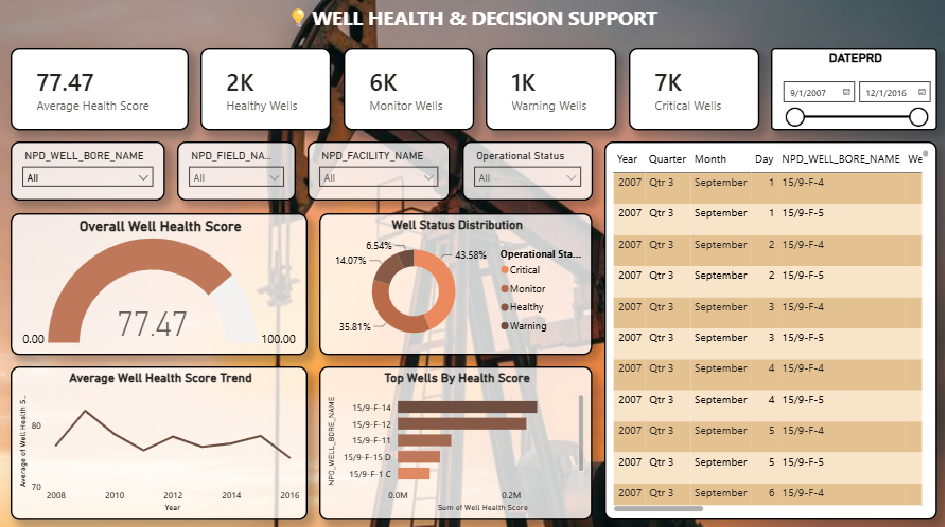

Layout of this report page (visuals, bound fields, positions):
{"tool":"powerbi","page":{"name":"Page 4","canvas":[1280,720],"ordinal":3},"visuals":[{"type":"cardVisual","fields":{"Data":["IntelliWell_Final_Report.Average Health Score"]},"box":[16,64,240,112],"z":0},{"type":"cardVisual","fields":{"Data":["IntelliWell_Final_Report.Monitor Wells"]},"box":[464,64,176,112],"z":1000},{"type":"cardVisual","fields":{"Data":["IntelliWell_Final_Report.Warning Wells"]},"box":[656,64,176,112],"z":2000},{"type":"cardVisual","fields":{"Data":["IntelliWell_Final_Report.Healthy Wells"]},"box":[272,64,176,112],"z":3000},{"type":"cardVisual","fields":{"Data":["IntelliWell_Final_Report.Critical Wells"]},"box":[848,64,176,112],"z":4000},{"type":"gauge","title":"Overall Well Health Score","fields":{"Y":["IntelliWell_Final_Report.Average Health Score"]},"box":[16,288,400,192],"z":5000},{"type":"donutChart","title":"Well Status Distribution","fields":{"Category":["IntelliWell_Final_Report.Operational Status"],"Y":["CountNonNull(IntelliWell_Final_Report.Operational Status)"]},"box":[432,288,368,192],"z":6000},{"type":"clusteredBarChart","title":"Top Wells By Health Score","fields":{"Category":["IntelliWell_Final_Report.NPD_WELL_BORE_NAME"],"Y":["Sum(IntelliWell_Final_Report.Well Health Score)"]},"box":[432,496,368,208],"z":7000},{"type":"lineChart","title":"Average  Well Health Score Trend","fields":{"Category":["IntelliWell_Final_Report.DATEPRD.Variation.Date Hierarchy.Year","IntelliWell_Final_Report.DATEPRD.Variation.Date Hierarchy.Quarter","IntelliWell_Final_Report.DATEPRD.Variation.Date Hierarchy.Month","IntelliWell_Final_Report.DATEPRD.Variation.Date Hierarchy.Day"],"Y":["Avg(IntelliWell_Final_Report.Well Health Score)"]},"box":[16,496,400,208],"z":9000},{"type":"tableEx","fields":{"Values":["IntelliWell_Final_Report.DATEPRD.Variation.Date Hierarchy.Year","IntelliWell_Final_Report.DATEPRD.Variation.Date Hierarchy.Quarter","IntelliWell_Final_Report.DATEPRD.Variation.Date Hierarchy.Month","IntelliWell_Final_Report.DATEPRD.Variation.Date Hierarchy.Day","IntelliWell_Final_Report.NPD_WELL_BORE_NAME","IntelliWell_Final_Report.Well Health Score","IntelliWell_Final_Report.Operational Status","IntelliWell_Final_Report.Recommendation","Sum(IntelliWell_Final_Report.Pressure Score)","Sum(IntelliWell_Final_Report.Predicted Production)"]},"box":[816,192,448,512],"z":10000},{"type":"slicer","title":"DATEPRD","fields":{"Values":["IntelliWell_Final_Report.DATEPRD"]},"box":[1040,64,224,112],"z":11000},{"type":"slicer","fields":{"Values":["IntelliWell_Final_Report.NPD_FACILITY_NAME"]},"box":[416,192,192,80],"z":12000},{"type":"slicer","fields":{"Values":["IntelliWell_Final_Report.Operational Status"]},"box":[624,192,176,80],"z":13000},{"type":"slicer","fields":{"Values":["IntelliWell_Final_Report.NPD_FIELD_NAME"]},"box":[240,192,160,80],"z":14000},{"type":"slicer","fields":{"Values":["IntelliWell_Final_Report.NPD_WELL_BORE_NAME"]},"box":[16,192,208,80],"z":15000},{"type":"textbox","box":[256,0,768,48],"z":16000}]}

Visuals, with their boxes in screenshot pixels (x1, y1, x2, y2), scaled from the page's 1280x720 canvas onto the 945x527 screenshot:
cardVisual - IntelliWell_Final_Report.Average Health Score: x1=12, y1=47, x2=189, y2=129
cardVisual - IntelliWell_Final_Report.Monitor Wells: x1=343, y1=47, x2=472, y2=129
cardVisual - IntelliWell_Final_Report.Warning Wells: x1=484, y1=47, x2=614, y2=129
cardVisual - IntelliWell_Final_Report.Healthy Wells: x1=201, y1=47, x2=331, y2=129
cardVisual - IntelliWell_Final_Report.Critical Wells: x1=626, y1=47, x2=756, y2=129
"Overall Well Health Score" gauge: x1=12, y1=211, x2=307, y2=351
"Well Status Distribution" donutChart: x1=319, y1=211, x2=591, y2=351
"Top Wells By Health Score" clusteredBarChart: x1=319, y1=363, x2=591, y2=515
"Average  Well Health Score Trend" lineChart: x1=12, y1=363, x2=307, y2=515
tableEx - IntelliWell_Final_Report.DATEPRD.Variation.Date Hierarchy.Year x IntelliWell_Final_Report.DATEPRD.Variation.Date Hierarchy.Quarter: x1=602, y1=141, x2=933, y2=515
"DATEPRD" slicer: x1=768, y1=47, x2=933, y2=129
slicer - IntelliWell_Final_Report.NPD_FACILITY_NAME: x1=307, y1=141, x2=449, y2=199
slicer - IntelliWell_Final_Report.Operational Status: x1=461, y1=141, x2=591, y2=199
slicer - IntelliWell_Final_Report.NPD_FIELD_NAME: x1=177, y1=141, x2=295, y2=199
slicer - IntelliWell_Final_Report.NPD_WELL_BORE_NAME: x1=12, y1=141, x2=165, y2=199
textbox: x1=189, y1=0, x2=756, y2=35
